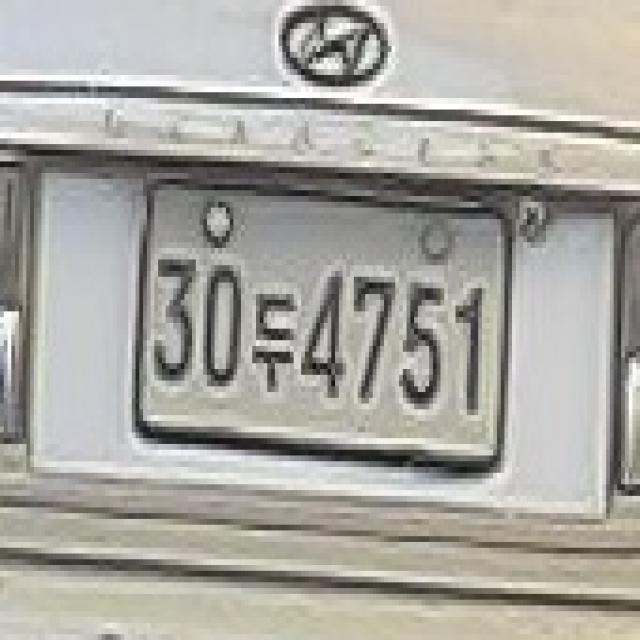0: (203, 265, 245, 392)
1: (456, 288, 486, 421)
3: (154, 248, 200, 386)
4: (305, 265, 346, 404)
5: (399, 283, 444, 415)
7: (350, 271, 395, 409)
du: (252, 282, 298, 398)
license_plate: (132, 173, 516, 484)
